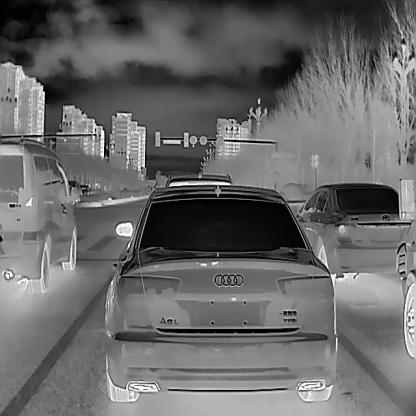car: (100, 180, 336, 403), (0, 135, 81, 293), (294, 180, 413, 286), (79, 183, 91, 195)
